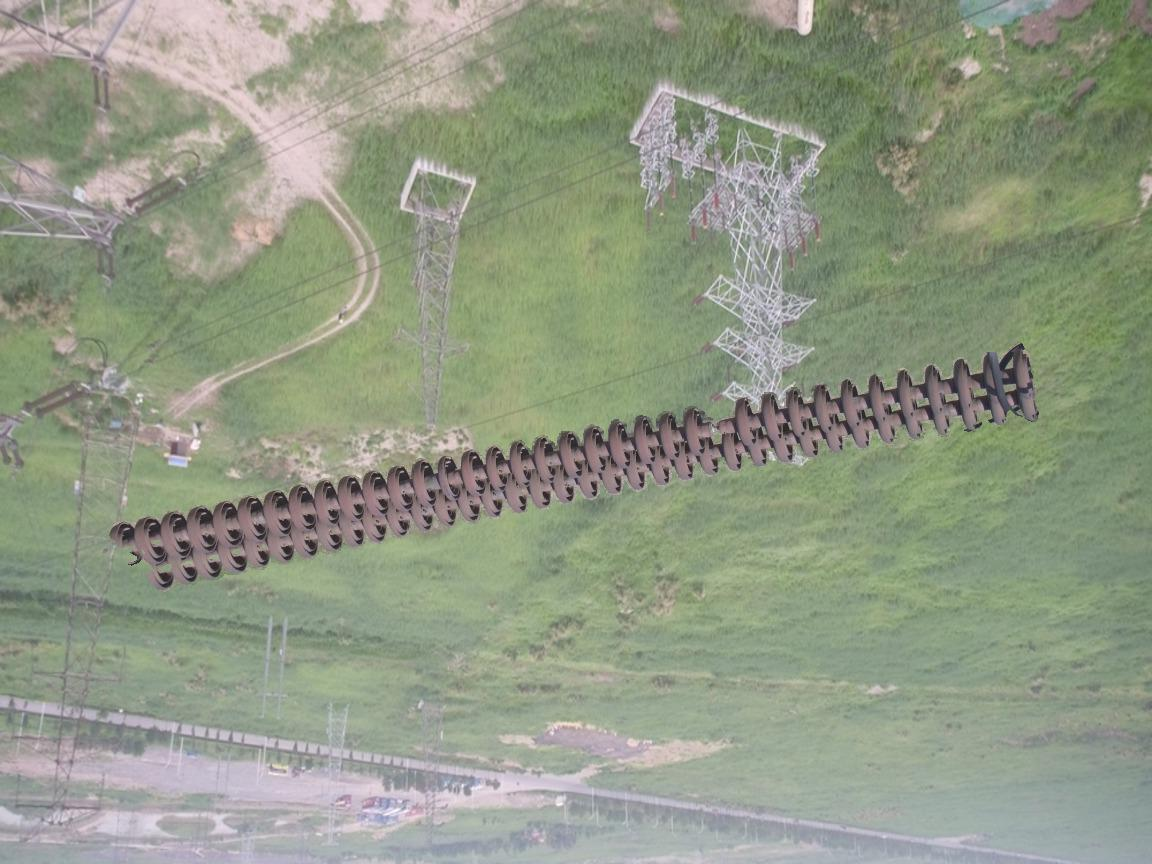insulator: (113, 342, 1047, 593)
insulator_stringdrop: (680, 396, 758, 459)
